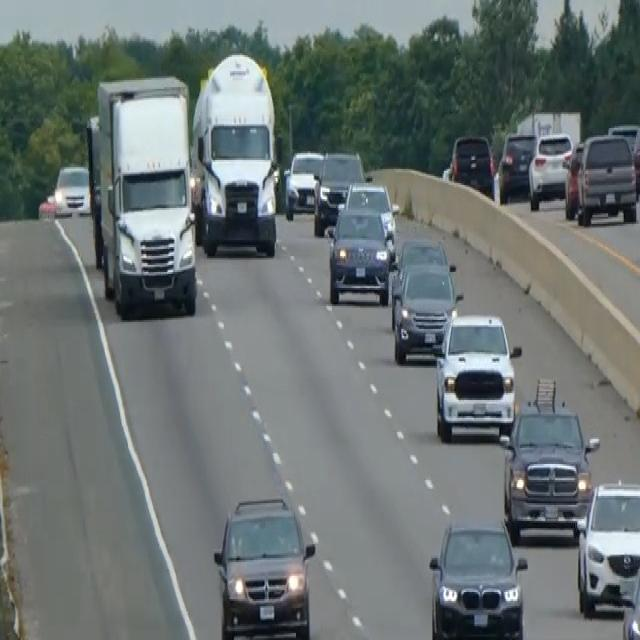car: (500, 375, 599, 542), (212, 492, 315, 638), (427, 516, 528, 638), (432, 309, 521, 443), (573, 476, 639, 617), (391, 258, 462, 362), (326, 202, 392, 306), (576, 132, 637, 226), (312, 148, 365, 235), (389, 235, 451, 309), (527, 130, 572, 210), (343, 180, 398, 243), (449, 132, 495, 198), (283, 148, 323, 218), (497, 130, 536, 201), (53, 162, 90, 217), (562, 139, 585, 217), (620, 550, 639, 638), (632, 121, 639, 195)
lorry: (86, 73, 198, 316), (191, 50, 281, 258)
